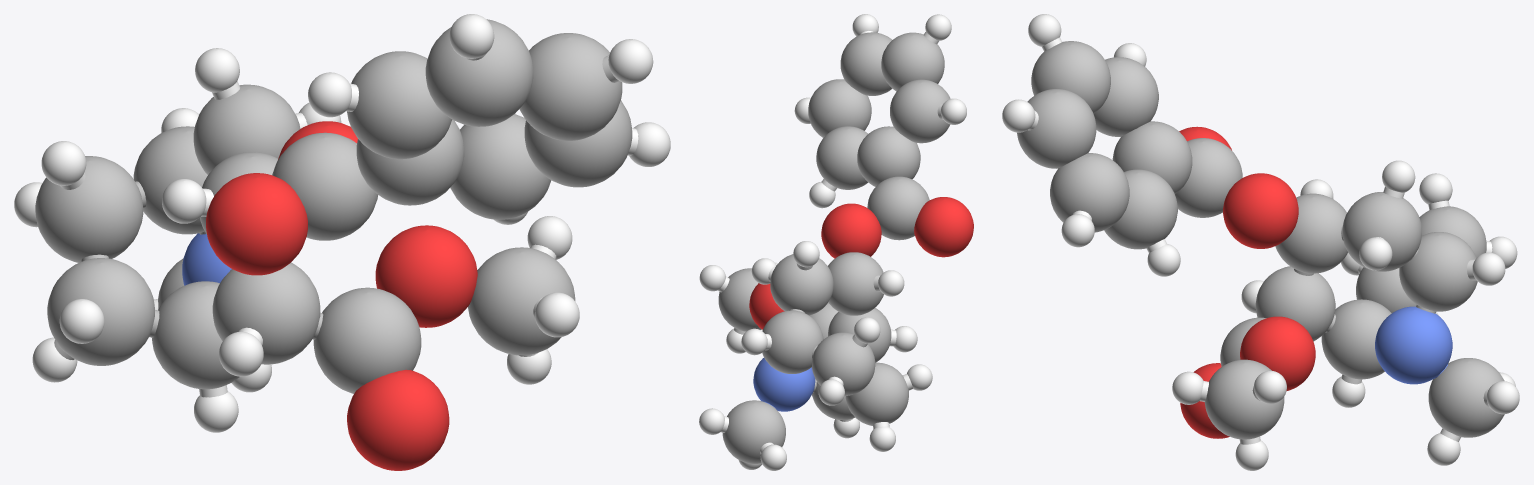
The model's file is cocaina.glb.
3 renders of one model, left to right at view 1: azimuth 30°, elevation 25°; view 2: azimuth 150°, elevation 25°; view 3: azimuth 270°, elevation 25°, orthographic. The views are drawn at different scales.
Parts seen in each view (by area): view 1: Carbon_ball_16, Oxygen_ball_6, Carbon_ball, Carbon_ball_24, Oxygen_ball, Carbon_ball_26, Carbon_ball_32, Carbon_ball_2, Carbon_ball_18, Oxygen_ball_2, Carbon_ball_8, Carbon_ball_20 (+28 smaller); view 2: Carbon_ball_26, Carbon_ball_6, Carbon_ball_14, Oxygen_ball_6, Carbon_ball_22, Carbon_ball, Carbon_ball_10, Carbon_ball_12, Carbon_ball_20, Carbon_ball_32, Carbon_ball_30, Oxygen_ball_4 (+28 smaller); view 3: Nitrogen_ball, Carbon_ball_6, Oxygen_ball_4, Carbon_ball_24, Carbon_ball_30, Carbon_ball_14, Carbon_ball_18, Carbon_ball_10, Carbon_ball_12, Carbon_ball_4, Carbon_ball_8, Carbon_ball_28 (+24 smaller).
Boxes of the visible parts, x1,y1,x2,y2 form: Carbon_ball_16: (313, 287, 421, 393); Oxygen_ball_6: (206, 173, 307, 275); Carbon_ball: (35, 156, 143, 262); Carbon_ball_24: (519, 33, 622, 140); Oxygen_ball: (347, 369, 449, 470); Carbon_ball_26: (347, 51, 452, 159); Carbon_ball_32: (425, 19, 533, 126); Carbon_ball_2: (47, 258, 154, 365); Carbon_ball_18: (468, 247, 575, 355); Oxygen_ball_2: (375, 225, 477, 327); Carbon_ball_8: (212, 262, 320, 364); Carbon_ball_20: (272, 132, 377, 240); Carbon_ball_26: (890, 79, 950, 143); Carbon_ball_6: (762, 310, 823, 373); Carbon_ball_14: (722, 400, 785, 463); Oxygen_ball_6: (914, 197, 973, 257); Carbon_ball_22: (857, 126, 920, 186); Carbon_ball: (812, 332, 875, 395); Carbon_ball_10: (770, 254, 833, 315); Carbon_ball_12: (828, 252, 883, 315); Carbon_ball_20: (867, 176, 929, 240); Carbon_ball_32: (881, 32, 944, 91); Carbon_ball_30: (808, 79, 871, 137); Oxygen_ball_4: (821, 203, 881, 258); Nitrogen_ball: (1375, 306, 1452, 384); Carbon_ball_6: (1399, 232, 1477, 311); Oxygen_ball_4: (1223, 173, 1298, 248); Carbon_ball_24: (1017, 89, 1096, 168); Carbon_ball_30: (1050, 153, 1129, 232); Carbon_ball_14: (1428, 358, 1504, 437); Carbon_ball_18: (1204, 359, 1284, 439); Carbon_ball_10: (1342, 192, 1421, 271); Carbon_ball_12: (1275, 193, 1347, 273); Carbon_ball_4: (1321, 299, 1391, 379); Carbon_ball_8: (1255, 266, 1335, 341); Carbon_ball_28: (1104, 169, 1177, 249).
Bounding box in the file's own units: 7.37 × 9.17 × 9.97.
